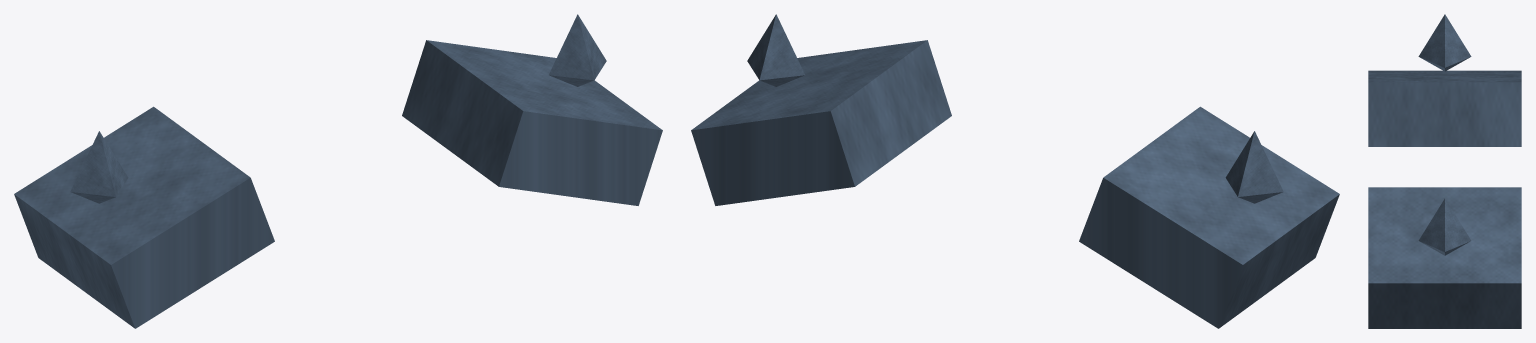
The model's file is rival_rock_plates.obj.
The picture shows the model from 3 angles, left to right: view 1: azimuth 30°, elevation 25°; view 2: azimuth 150°, elevation 25°; view 3: azimuth 270°, elevation 25°; orthographic projection. The views are drawn at different scales.
Visible parts, largest first — view 1: rival_rock_plates; view 2: rival_rock_plates; view 3: rival_rock_plates.
Boxes of the visible parts, x1=… form: rival_rock_plates: x1=14, y1=14, x2=662, y2=328; rival_rock_plates: x1=691, y1=14, x2=1339, y2=328; rival_rock_plates: x1=1368, y1=14, x2=1521, y2=328.
Size of the model in its own units: 1.07 by 0.2951 by 0.325.
